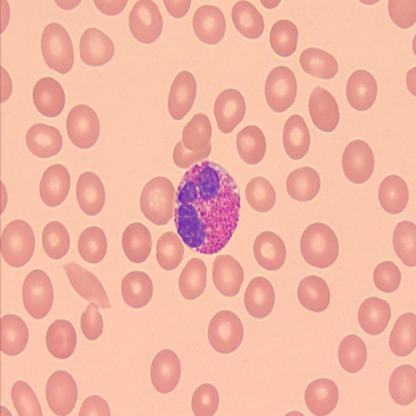Eosinophil: (175, 159, 242, 256)
